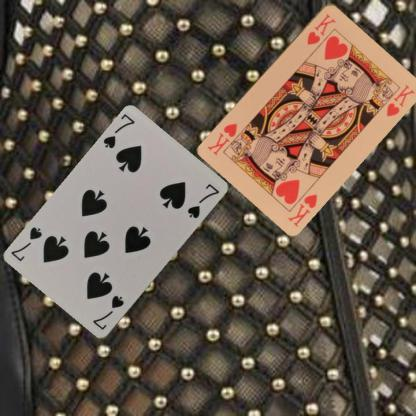7s: (90, 293, 126, 332), (100, 112, 136, 150)
Kh: (285, 190, 319, 228), (304, 11, 337, 46)
